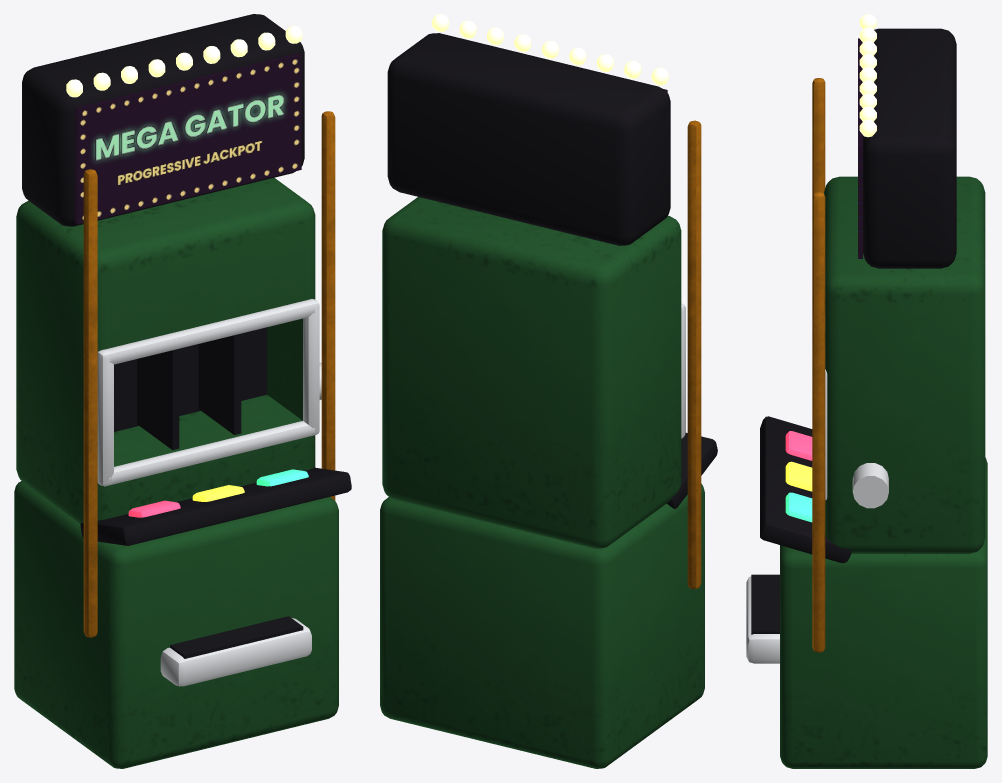
Rendered from slot-mega.glb.
3 views of the same model, side by side, from view 1: azimuth 30°, elevation 25°; view 2: azimuth 150°, elevation 25°; view 3: azimuth 270°, elevation 25° (orthographic).
Visible parts, largest first — view 1: slot-mega; view 2: slot-mega; view 3: slot-mega.
Boxes of the visible parts, x1=… form: slot-mega: x1=14, y1=14, x2=351, y2=768; slot-mega: x1=380, y1=14, x2=717, y2=768; slot-mega: x1=746, y1=14, x2=987, y2=768.
Bounding box in the file's own units: 1.16 × 2.77 × 0.93.
9 materials, 3 textured.
